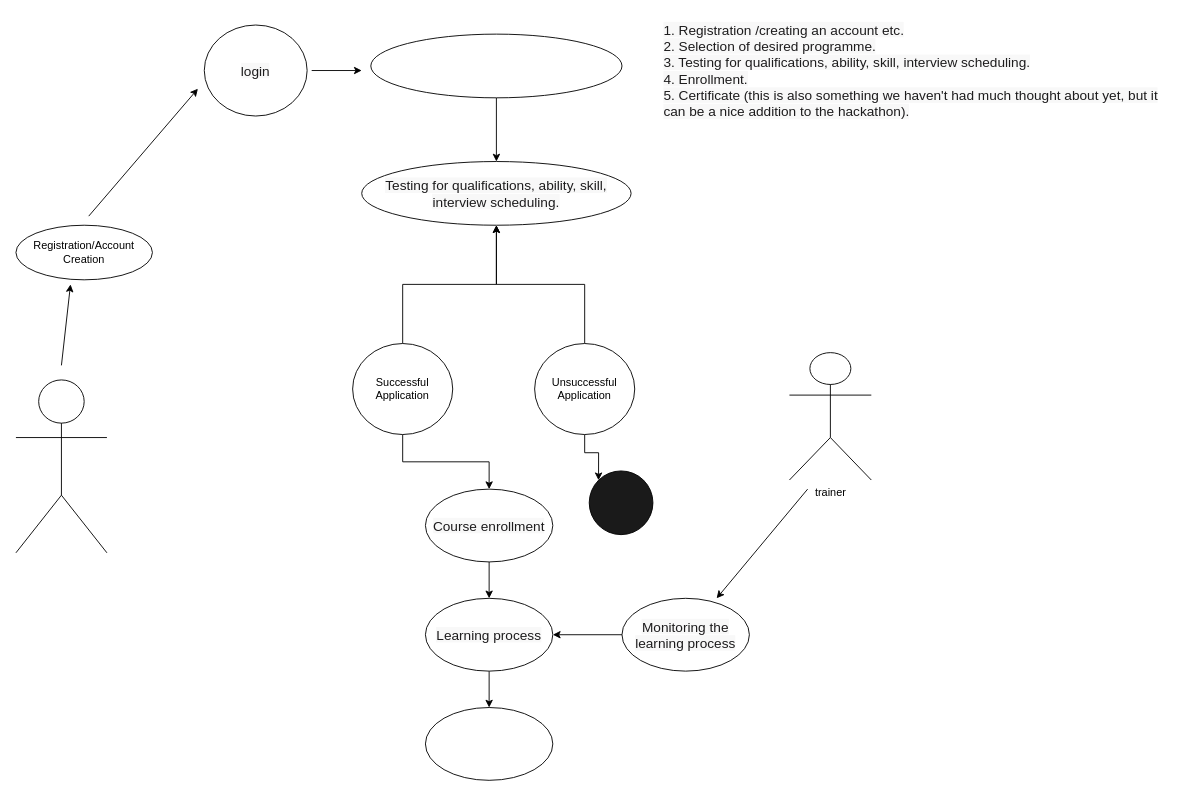
Image size: 1178x796. Some labels were removed from this diagram. The shapes that lost their labels are listed below. From the top down, each one's centre as x and y in pixels, then its label:
the point at 496,65: Selection of desired programme
the point at 61,466: beneficiary
the point at 620,502: End
the point at 489,743: Get certification
